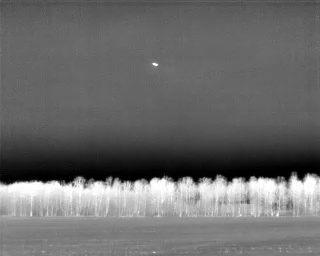DRONE: (149, 59, 161, 70)
